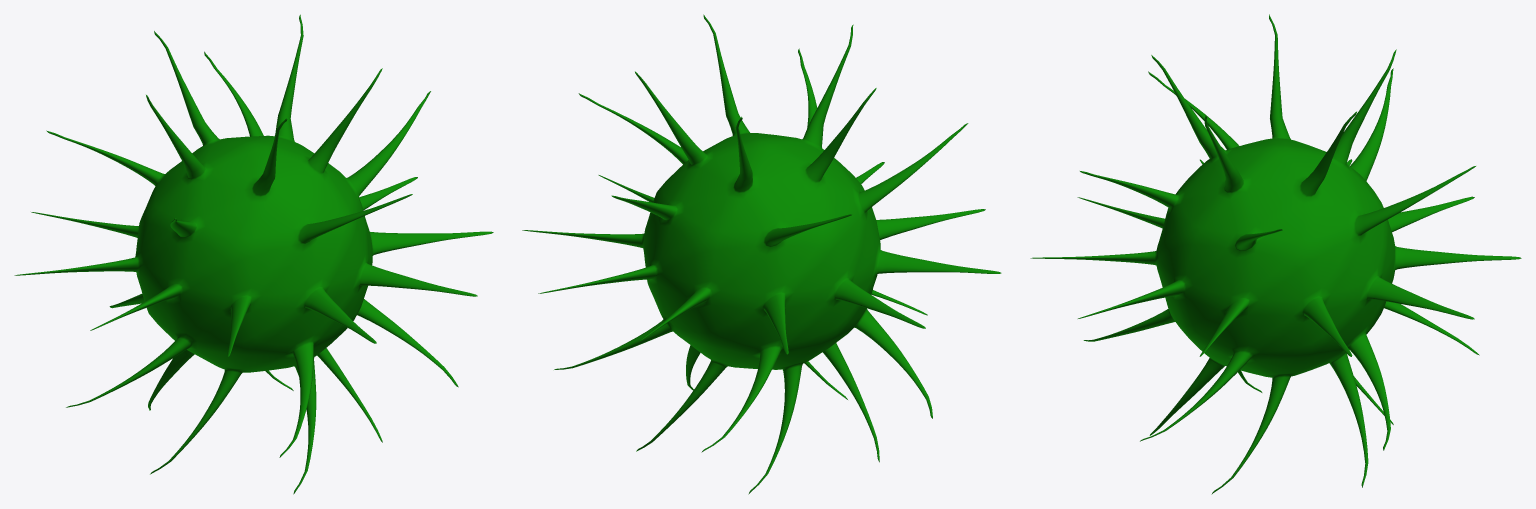
Rendered from macrophage.fbx.
3 renders of one model, left to right at view 1: azimuth 30°, elevation 25°; view 2: azimuth 150°, elevation 25°; view 3: azimuth 270°, elevation 25°, orthographic.
Visible parts, largest first — view 1: Icosphere; view 2: Icosphere; view 3: Icosphere.
Boxes of the visible parts, x1=… form: Icosphere: x1=14, y1=14, x2=493, y2=494; Icosphere: x1=522, y1=14, x2=1001, y2=494; Icosphere: x1=1030, y1=14, x2=1521, y2=494.
Size of the model in its own units: 374 by 335 by 394.
